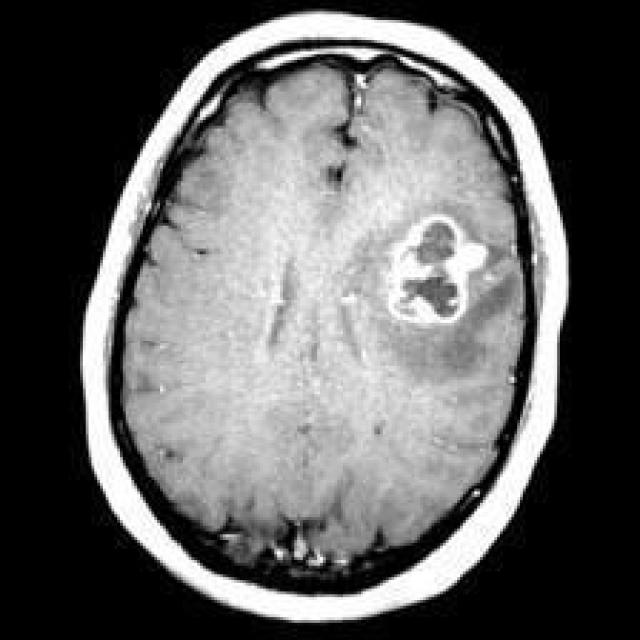Tumor: (388, 208, 492, 326)
